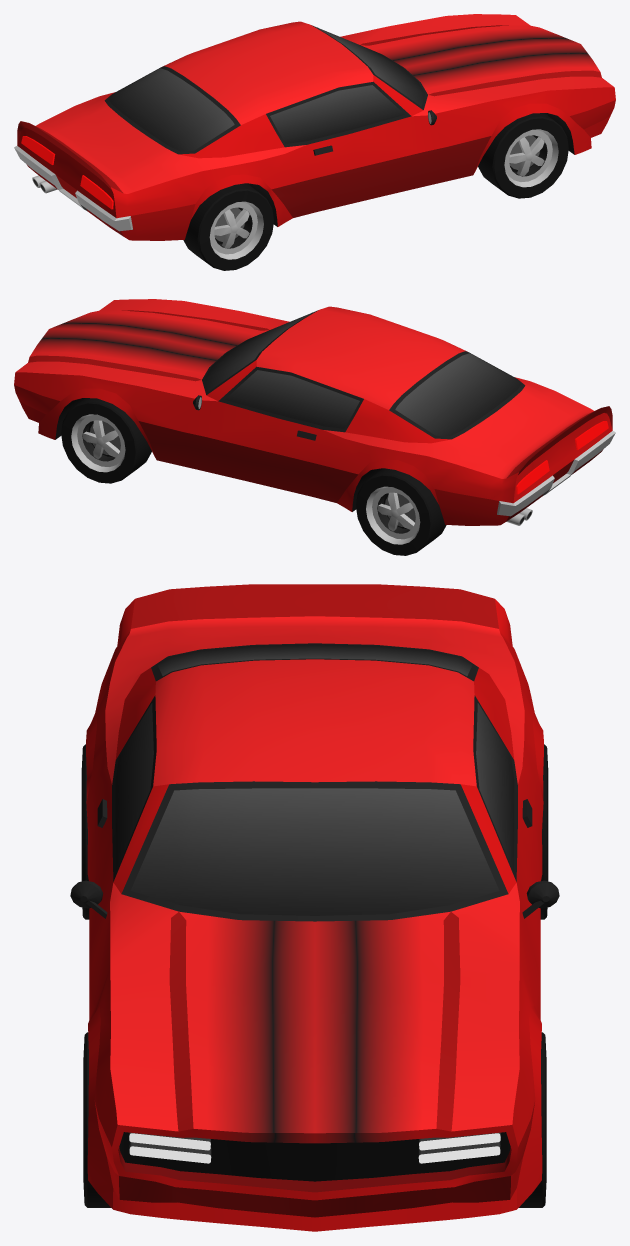
The model's file is Car_165.glb.
3 renders of one model, top to bottom at view 1: azimuth 30°, elevation 25°; view 2: azimuth 150°, elevation 25°; view 3: azimuth 270°, elevation 25°, orthographic. The views are drawn at different scales.
Visible parts, largest first — view 1: Car_165, wheel_3_Car_165_Wheel_2R, wheel_1_Car_165_Wheel_1R; view 2: Car_165, wheel_2_Car_165_Wheel_2L, wheel_0_Car_165_Wheel_1L; view 3: Car_165, wheel_0_Car_165_Wheel_1L, wheel_1_Car_165_Wheel_1R, wheel_2_Car_165_Wheel_2L, wheel_3_Car_165_Wheel_2R.
Boxes of the visible parts, x1,y1,x2,y2 form: Car_165: [14, 14, 615, 240]; wheel_3_Car_165_Wheel_2R: [183, 183, 273, 270]; wheel_1_Car_165_Wheel_1R: [478, 113, 568, 198]; Car_165: [14, 299, 615, 525]; wheel_2_Car_165_Wheel_2L: [356, 468, 446, 555]; wheel_0_Car_165_Wheel_1L: [61, 398, 151, 483]; Car_165: [70, 584, 559, 1231]; wheel_0_Car_165_Wheel_1L: [519, 1032, 546, 1207]; wheel_1_Car_165_Wheel_1R: [83, 1032, 110, 1207]; wheel_2_Car_165_Wheel_2L: [540, 744, 548, 919]; wheel_3_Car_165_Wheel_2R: [81, 744, 89, 919].
Size of the model in its own units: 4.83 by 1.32 by 1.98.
Materials: 2 (2 with a texture image).
